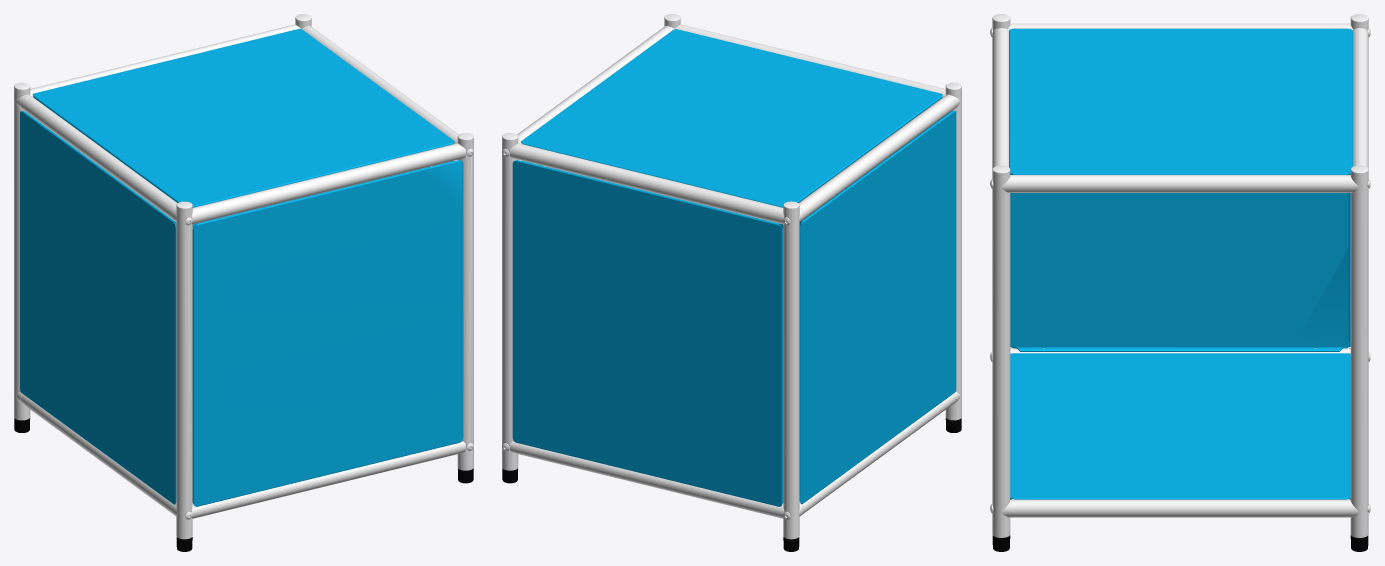
The model's file is 40x40x40-2-3-blue_optimized_optimized.glb.
3 renders of one model, left to right at view 1: azimuth 30°, elevation 25°; view 2: azimuth 150°, elevation 25°; view 3: azimuth 270°, elevation 25°, orthographic. The views are drawn at different scales.
Parts seen in each view (by area): view 1: 直角鐵板-40x40-5 - 零件, 反-鐵管-40-354..4-1 - 零件, 圓形腳+調整器-1 - 零件; view 2: 直角鐵板-40x40-5 - 零件, 反-鐵管-40-354..4-1 - 零件, 圓形腳+調整器-1 - 零件; view 3: 直角鐵板-40x40-5 - 零件, 反-鐵管-40-354..4-1 - 零件, 圓形腳+調整器-1 - 零件.
Part boxes in pixels (bbox=[...]): 直角鐵板-40x40-5 - 零件: bbox=[20, 28, 463, 506]; 反-鐵管-40-354..4-1 - 零件: bbox=[14, 14, 473, 539]; 圓形腳+調整器-1 - 零件: bbox=[14, 418, 473, 551]; 直角鐵板-40x40-5 - 零件: bbox=[512, 29, 956, 506]; 反-鐵管-40-354..4-1 - 零件: bbox=[502, 14, 961, 539]; 圓形腳+調整器-1 - 零件: bbox=[502, 418, 961, 551]; 直角鐵板-40x40-5 - 零件: bbox=[1009, 28, 1352, 499]; 反-鐵管-40-354..4-1 - 零件: bbox=[990, 14, 1370, 537]; 圓形腳+調整器-1 - 零件: bbox=[992, 535, 1368, 551].
Bounding box in the file's own units: 0.3992 × 0.4453 × 0.4035.
